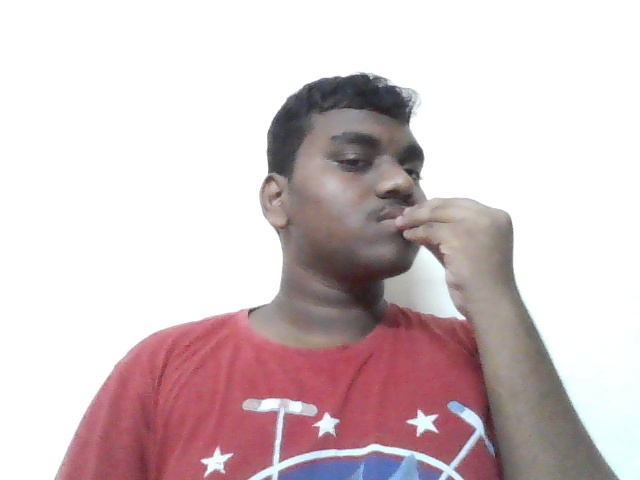Eat: (392, 192, 550, 369)
